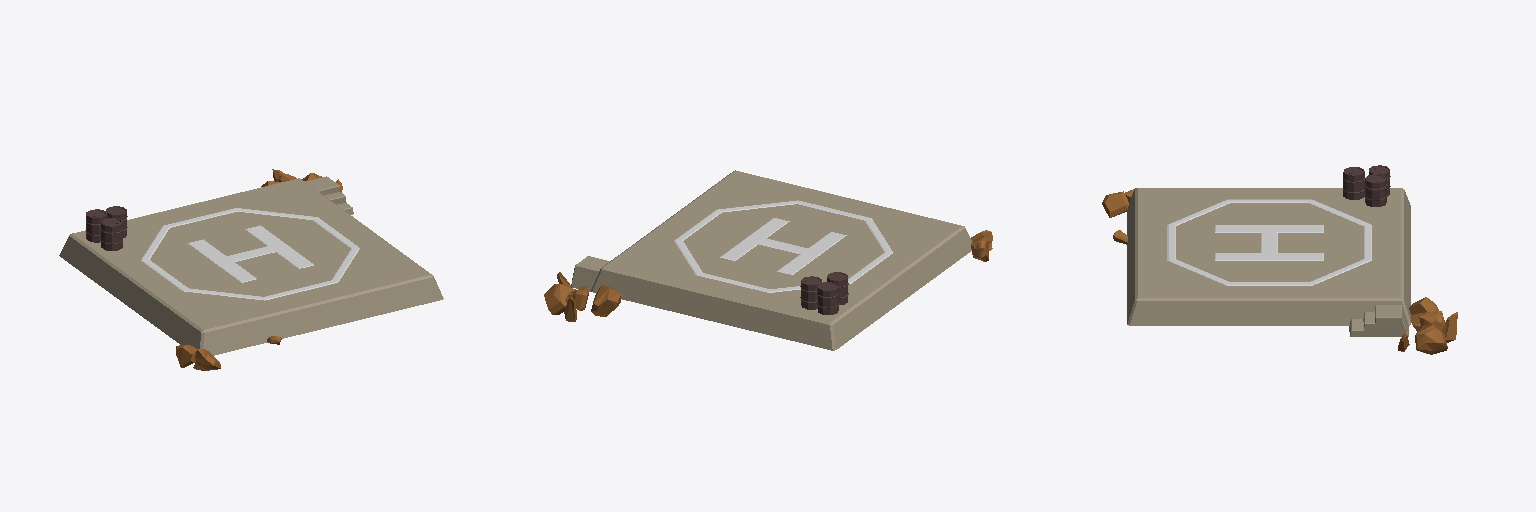
Rendered from helipad.obj.
3 views of the same model, side by side, from view 1: azimuth 30°, elevation 25°; view 2: azimuth 150°, elevation 25°; view 3: azimuth 270°, elevation 25° (orthographic).
Visible parts, largest first — view 1: Helipad; view 2: Helipad; view 3: Helipad.
Part boxes in pixels (left/top/right/bottom): Helipad: left=59, top=169, right=443, bottom=370; Helipad: left=544, top=170, right=992, bottom=350; Helipad: left=1102, top=165, right=1457, bottom=354.
Size of the model in its own units: 8.12 by 1.71 by 8.44.